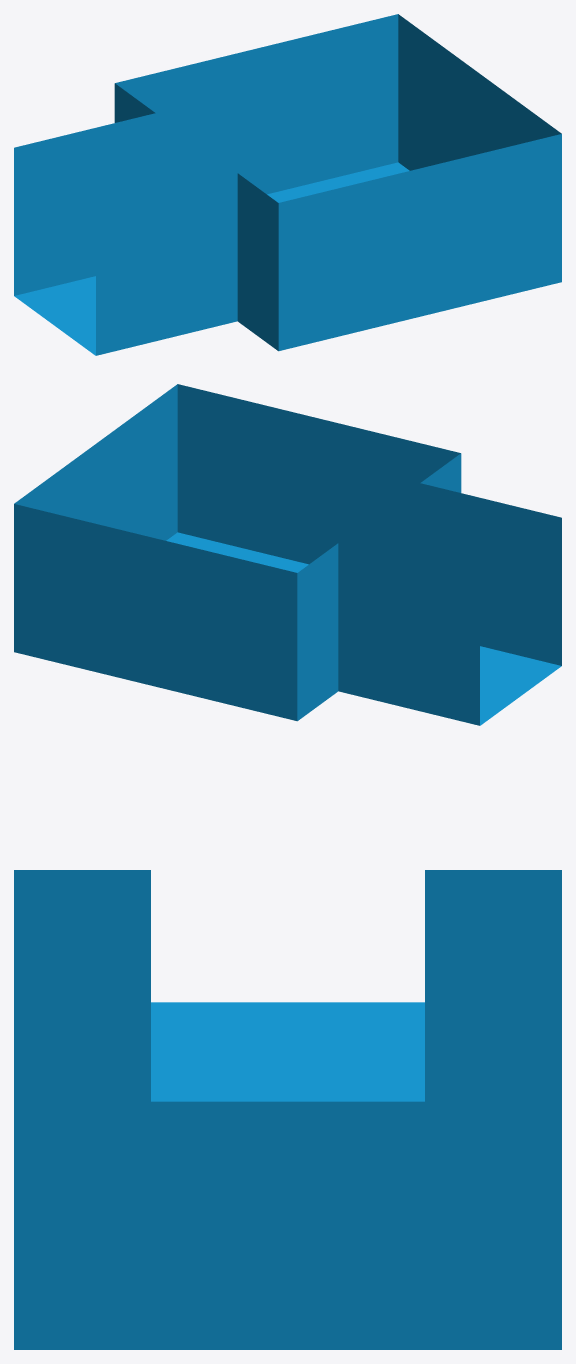
File: deadend_270.glb
The picture shows the model from 3 angles, top to bottom: view 1: azimuth 30°, elevation 25°; view 2: azimuth 150°, elevation 25°; view 3: azimuth 270°, elevation 25°; orthographic projection. The views are drawn at different scales.
Visible parts, largest first — view 1: deadend_270; view 2: deadend_270; view 3: deadend_270.
Part boxes in pixels (x1=…): deadend_270: x1=14, y1=14, x2=561, y2=355; deadend_270: x1=14, y1=384, x2=561, y2=725; deadend_270: x1=14, y1=870, x2=561, y2=1349.
Size of the model in its own units: 3 by 1 by 2.
